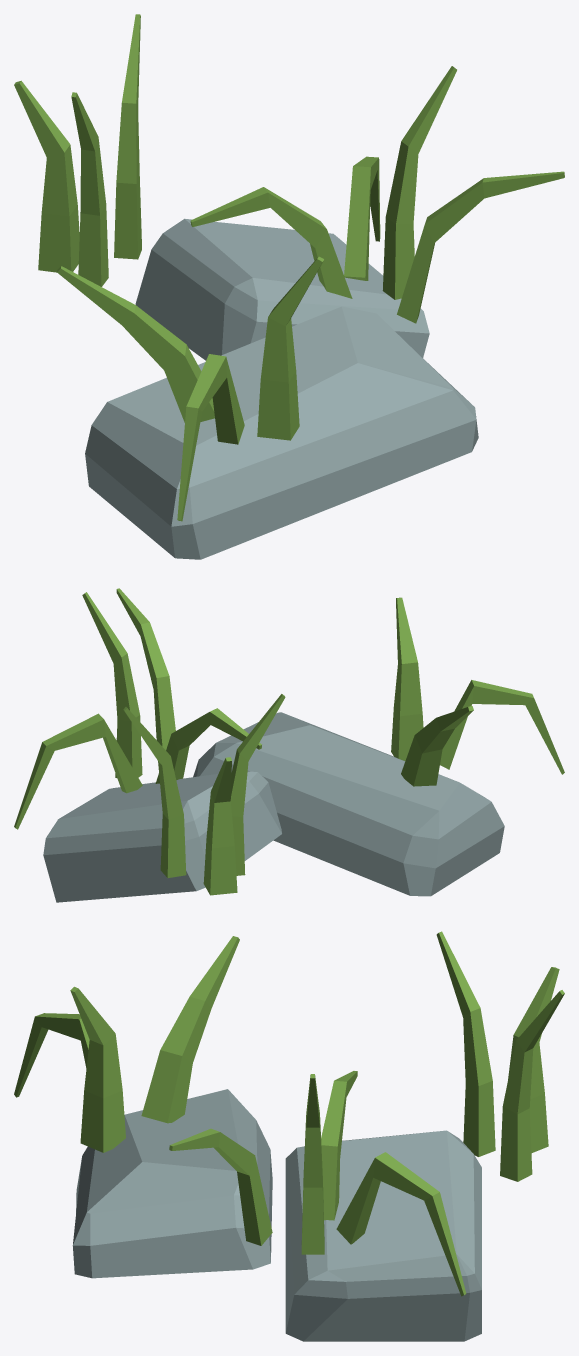
The model's file is herbe6.fbx.
3 renders of one model, top to bottom at view 1: azimuth 30°, elevation 25°; view 2: azimuth 150°, elevation 25°; view 3: azimuth 270°, elevation 25°, orthographic. The views are drawn at different scales.
Parts seen in each view (by area): view 1: pCube97, pCube96, pCube107, pCube102, pCube101, pCube104, pCube105, pCube106, pCube100, pCube103, pCube99, pCube98; view 2: pCube97, pCube96, pCube107, pCube102, pCube98, pCube105, pCube101, pCube100, pCube104, pCube103, pCube106, pCube99; view 3: pCube96, pCube97, pCube104, pCube102, pCube106, pCube105, pCube98, pCube100, pCube101, pCube99, pCube107, pCube103.
Part boxes in pixels (<box>): pCube97: <box>85,306,478,559</box>; pCube96: <box>135,218,429,360</box>; pCube107: <box>14,80,79,272</box>; pCube102: <box>257,256,324,440</box>; pCube101: <box>382,66,456,299</box>; pCube104: <box>57,266,214,422</box>; pCube105: <box>114,14,141,259</box>; pCube106: <box>71,92,108,286</box>; pCube100: <box>397,171,564,323</box>; pCube103: <box>177,354,244,521</box>; pCube99: <box>190,187,352,298</box>; pCube98: <box>344,156,380,280</box>; pCube97: <box>193,712,504,896</box>; pCube96: <box>43,771,281,902</box>; pCube107: <box>203,757,237,895</box>; pCube102: <box>391,597,423,760</box>; pCube98: <box>14,713,142,829</box>; pCube105: <box>123,707,186,877</box>; pCube101: <box>82,592,142,777</box>; pCube100: <box>116,588,175,749</box>; pCube104: <box>401,706,473,786</box>; pCube103: <box>440,680,564,774</box>; pCube106: <box>230,694,285,875</box>; pCube99: <box>155,708,261,783</box>; pCube96: <box>285,1130,481,1341</box>; pCube97: <box>72,1089,272,1278</box>; pCube104: <box>141,936,239,1123</box>; pCube102: <box>70,986,125,1152</box>; pCube106: <box>436,931,495,1156</box>; pCube105: <box>500,990,564,1181</box>; pCube98: <box>336,1152,466,1296</box>; pCube100: <box>169,1128,272,1245</box>; pCube101: <box>301,1074,324,1254</box>; pCube99: <box>321,1071,357,1220</box>; pCube107: <box>508,967,559,1152</box>; pCube103: <box>14,1013,89,1097</box>.
Bounding box in the file's own units: 58.22 × 36.38 × 62.43.
